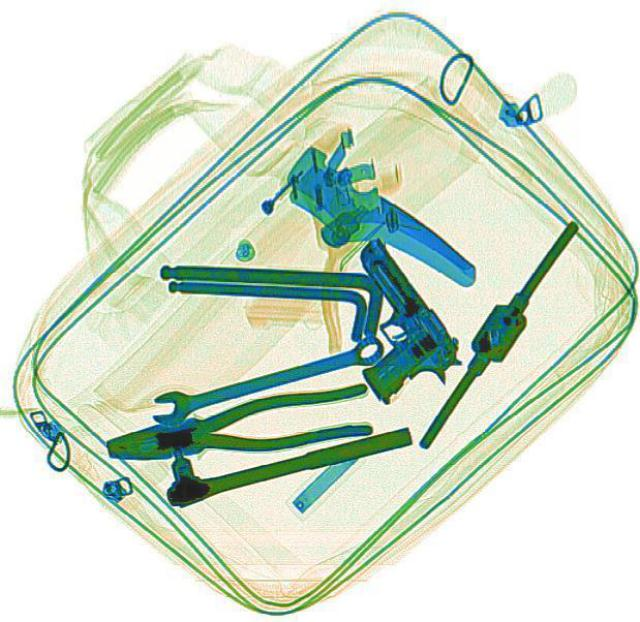Gun: (293, 232, 475, 414)
Pliers: (100, 378, 374, 473)
Wrench: (144, 328, 386, 427)
